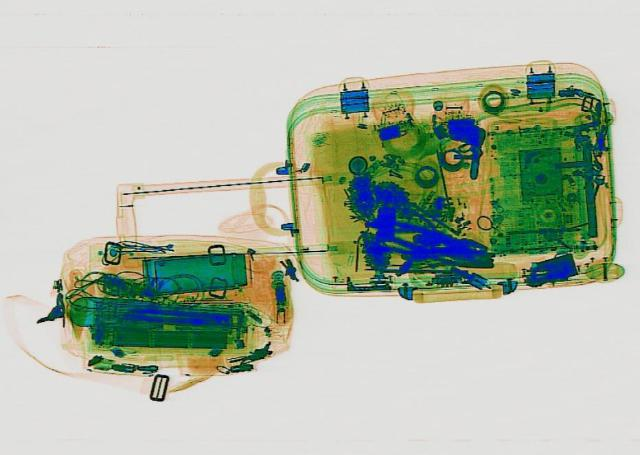Pliers: (367, 217, 491, 266)
